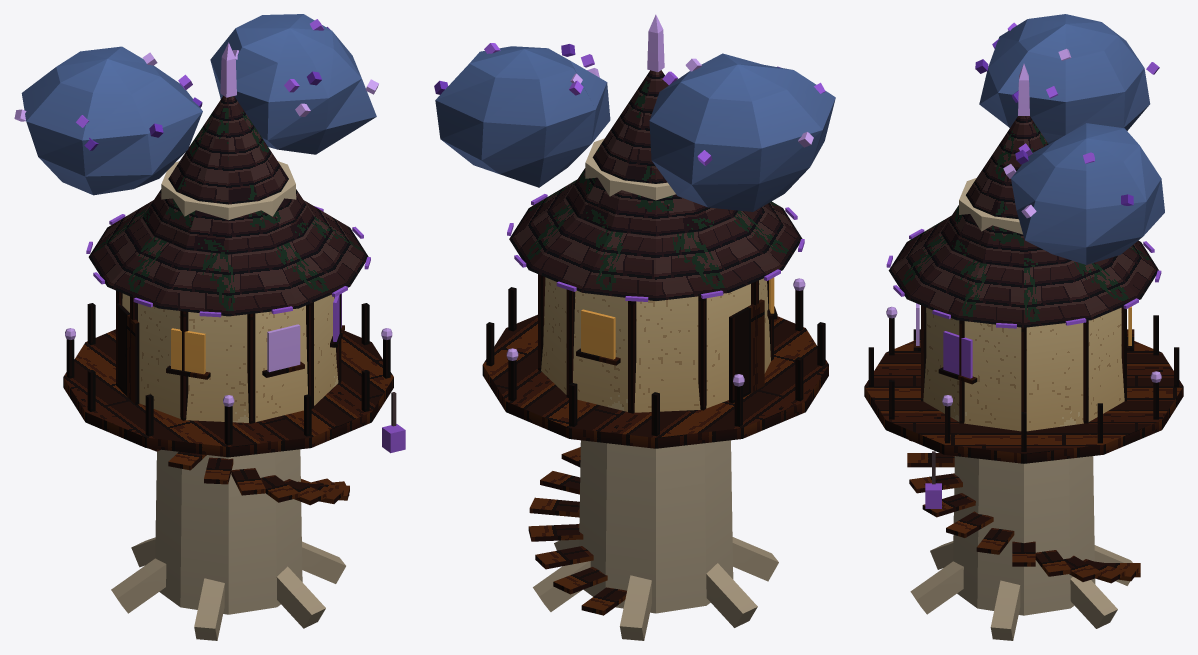
Rendered from elf_treehouse.glb.
3 views of the same model, side by side, from view 1: azimuth 30°, elevation 25°; view 2: azimuth 150°, elevation 25°; view 3: azimuth 270°, elevation 25° (orthographic). The views are drawn at different scales.
Parts seen in each view (by area): view 1: elf_treehouse; view 2: elf_treehouse; view 3: elf_treehouse.
Part boxes in pixels (x1,y1,x2,y2): elf_treehouse: (14, 14, 405, 640); elf_treehouse: (434, 14, 835, 640); elf_treehouse: (864, 14, 1183, 640).
Size of the model in its own units: 5.58 by 8.48 by 4.6.
5 materials, 3 textured.
